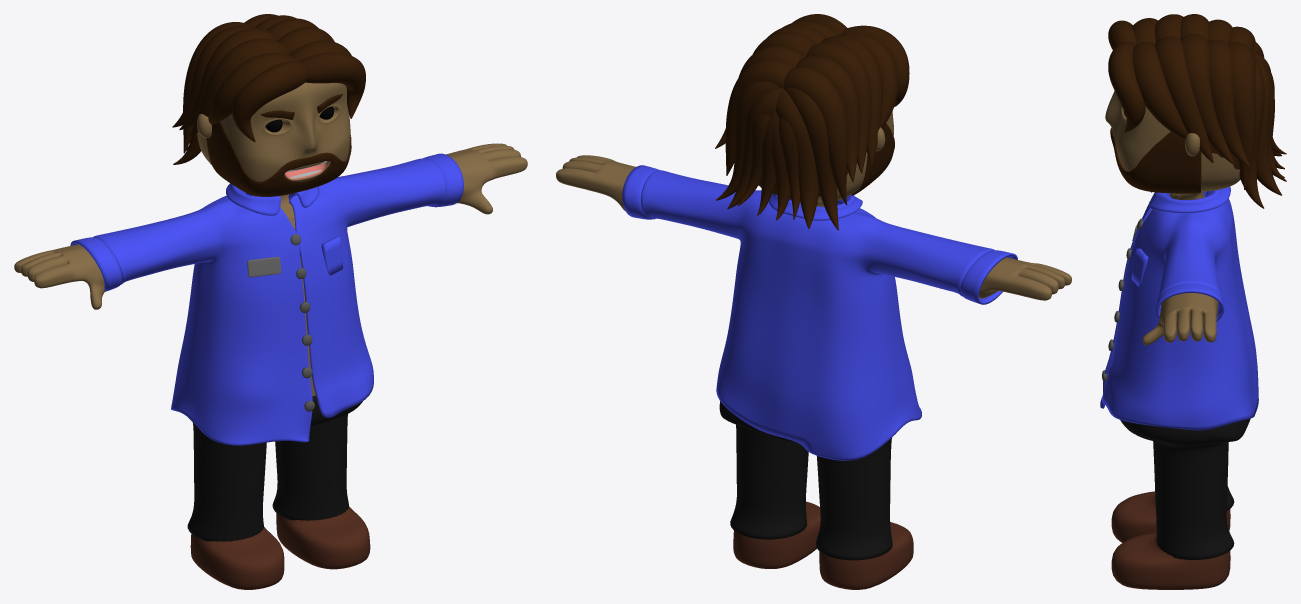
The model's file is PC-Male.fbx.
3 renders of one model, left to right at view 1: azimuth 30°, elevation 25°; view 2: azimuth 150°, elevation 25°; view 3: azimuth 270°, elevation 25°, orthographic.
Visible parts, largest first — view 1: Body; view 2: Body; view 3: Body.
Part boxes in pixels (box(x1,y1,x2,y2)): Body: box(14, 14, 527, 589); Body: box(556, 14, 1071, 589); Body: box(1100, 14, 1286, 589).
Bounding box in the file's own units: 446 × 455 × 145.
1 material, 1 textured.
